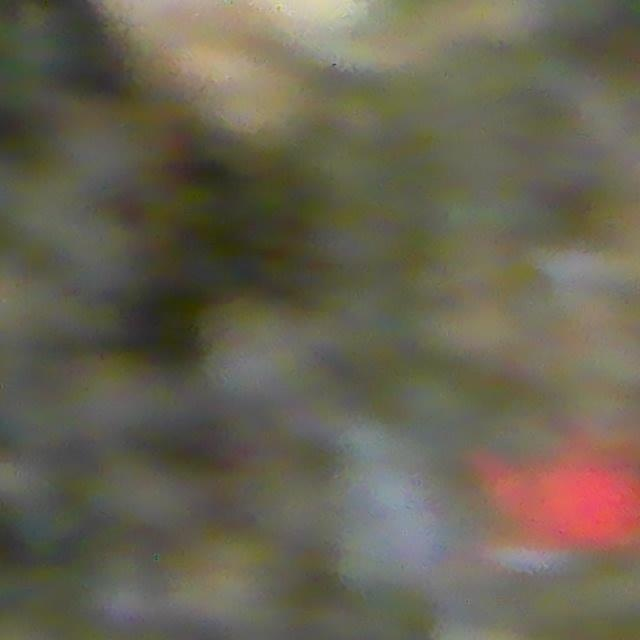SeaGrape: (196, 292, 309, 411)
